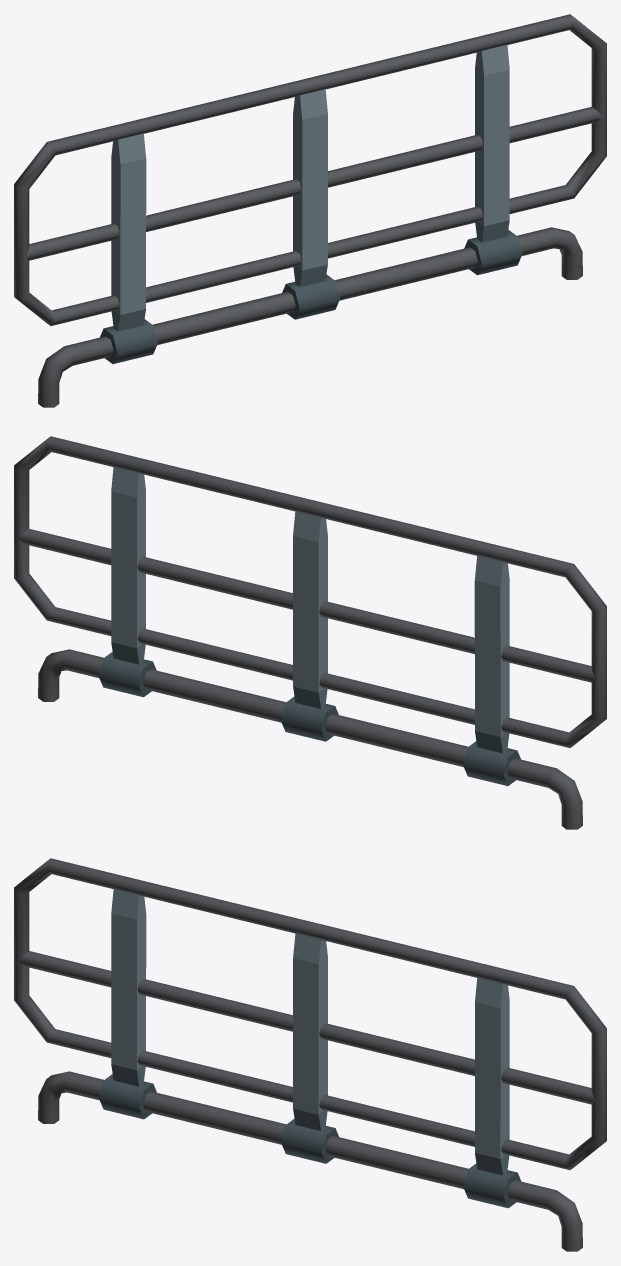
The model's file is Fence_type_C_002.glb.
3 views of the same model, one above another, from view 1: azimuth 30°, elevation 25°; view 2: azimuth 150°, elevation 25°; view 3: azimuth 330°, elevation 25° (orthographic).
Visible parts, largest first — view 1: Fence_type_C_002; view 2: Fence_type_C_002; view 3: Fence_type_C_002.
Boxes of the visible parts, <box> form: Fence_type_C_002: <box>14,14,606,407</box>; Fence_type_C_002: <box>14,436,606,829</box>; Fence_type_C_002: <box>14,858,606,1251</box>.
Bounding box in the file's own units: 3.37 × 1.42 × 0.1839.
Materials: 1 (1 with a texture image).
